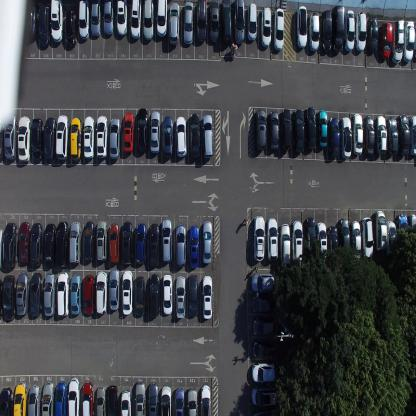car: (17, 115, 31, 162), (3, 222, 17, 269), (332, 5, 345, 54), (56, 272, 70, 317), (4, 113, 17, 161), (402, 20, 416, 63), (30, 221, 43, 267), (43, 272, 56, 318), (56, 220, 68, 269), (391, 19, 404, 64), (95, 271, 108, 316), (253, 215, 265, 263), (56, 113, 68, 161), (251, 361, 276, 384), (43, 116, 56, 160), (16, 272, 29, 316), (278, 222, 290, 269), (293, 107, 305, 154), (3, 274, 15, 321), (361, 216, 374, 259), (266, 216, 278, 262), (396, 214, 408, 260), (30, 272, 42, 318), (251, 294, 277, 315), (251, 387, 277, 408), (24, 0, 37, 42), (296, 4, 308, 49), (149, 110, 161, 155), (96, 114, 108, 159), (70, 116, 82, 161), (148, 222, 160, 267), (108, 267, 120, 312), (44, 222, 56, 267), (374, 210, 387, 251), (175, 223, 187, 267), (208, 0, 220, 44), (168, 1, 180, 45), (38, 3, 50, 47), (136, 108, 148, 152), (69, 220, 81, 264), (18, 222, 30, 266), (250, 272, 276, 292), (252, 318, 278, 338), (253, 340, 279, 360), (189, 113, 200, 160), (351, 113, 363, 156), (398, 113, 410, 156), (196, 0, 208, 43), (51, 0, 63, 43), (12, 381, 27, 415), (380, 21, 393, 60), (202, 274, 213, 320), (202, 113, 213, 159), (339, 216, 350, 262), (305, 106, 316, 152), (183, 0, 194, 46), (122, 221, 133, 267), (122, 270, 133, 316), (386, 219, 398, 261), (328, 116, 340, 158), (340, 116, 352, 158), (355, 11, 367, 53), (308, 11, 320, 53), (260, 6, 272, 48), (78, 0, 90, 42), (82, 274, 94, 316), (201, 220, 212, 265), (234, 0, 245, 45), (161, 219, 172, 264), (363, 115, 375, 156), (130, 0, 142, 41), (122, 112, 134, 153), (41, 380, 55, 415), (269, 110, 280, 154), (255, 108, 266, 152), (188, 273, 199, 317), (175, 275, 186, 319), (292, 219, 303, 263), (305, 216, 316, 260), (280, 108, 291, 152), (321, 10, 332, 54), (221, 0, 232, 44), (162, 116, 173, 160), (109, 116, 120, 160), (83, 116, 94, 160), (32, 118, 43, 162), (135, 222, 146, 266), (149, 274, 160, 318), (71, 272, 82, 316), (116, 0, 129, 37), (316, 221, 328, 261), (65, 6, 77, 46), (344, 9, 355, 52), (162, 273, 173, 316), (176, 115, 187, 157), (109, 222, 120, 264), (83, 220, 94, 262), (367, 15, 379, 53), (156, 0, 168, 38), (68, 377, 80, 415), (317, 109, 328, 150), (96, 220, 107, 261), (188, 224, 198, 269), (102, 0, 114, 37), (376, 115, 387, 155), (387, 116, 398, 156), (274, 8, 284, 52), (328, 224, 338, 267), (135, 275, 145, 318), (351, 220, 361, 262), (144, 0, 154, 42), (134, 380, 146, 415), (81, 380, 93, 415), (55, 381, 67, 415), (247, 2, 257, 42), (147, 382, 159, 415), (107, 383, 119, 415), (28, 383, 40, 415), (91, 0, 101, 38), (0, 386, 13, 415), (160, 386, 172, 416), (200, 384, 211, 416), (408, 213, 416, 256), (186, 387, 198, 415), (120, 389, 132, 415), (96, 386, 106, 416), (174, 388, 184, 415), (410, 116, 416, 157), (0, 117, 5, 161), (251, 410, 278, 416), (0, 227, 3, 269), (0, 277, 3, 319)
